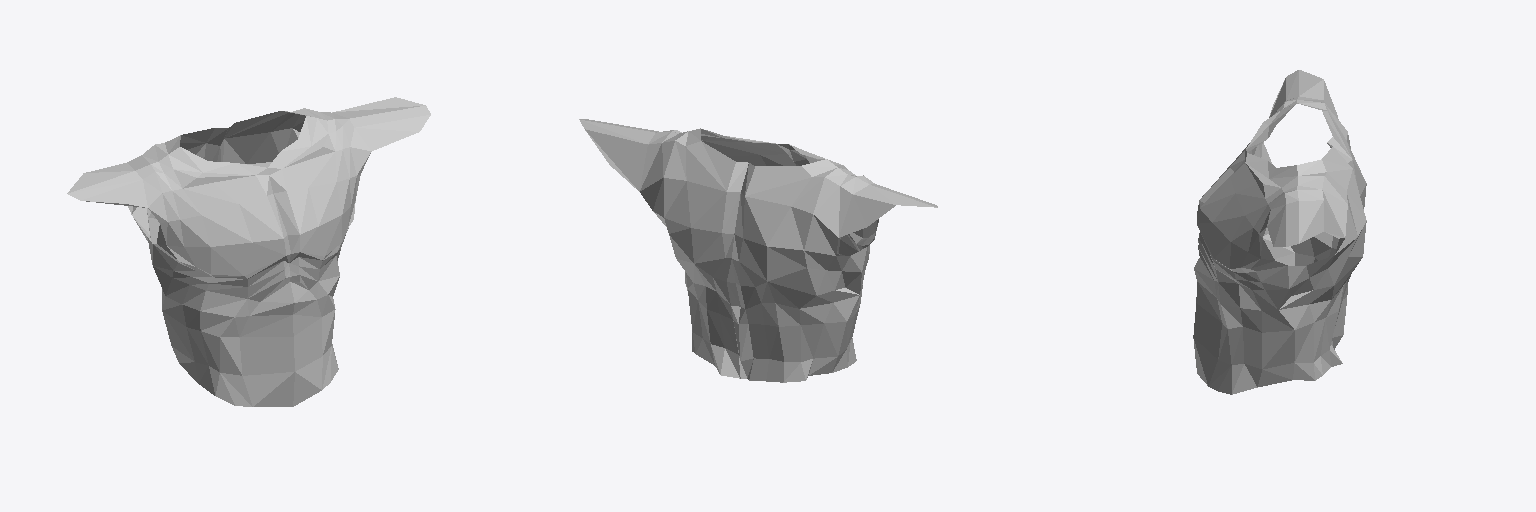
File: armor1.obj
The picture shows the model from 3 angles: view 1: azimuth 30°, elevation 25°; view 2: azimuth 150°, elevation 25°; view 3: azimuth 270°, elevation 25°; orthographic projection.
Parts seen in each view (by area): view 1: steelArmor01.001_Circle.001; view 2: steelArmor01.001_Circle.001; view 3: steelArmor01.001_Circle.001.
Part boxes in pixels (left/top/right/bottom): steelArmor01.001_Circle.001: left=67, top=97, right=430, bottom=406; steelArmor01.001_Circle.001: left=579, top=119, right=937, bottom=382; steelArmor01.001_Circle.001: left=1193, top=70, right=1366, bottom=394.
Bounding box in the file's own units: 130 × 83.04 × 54.55.